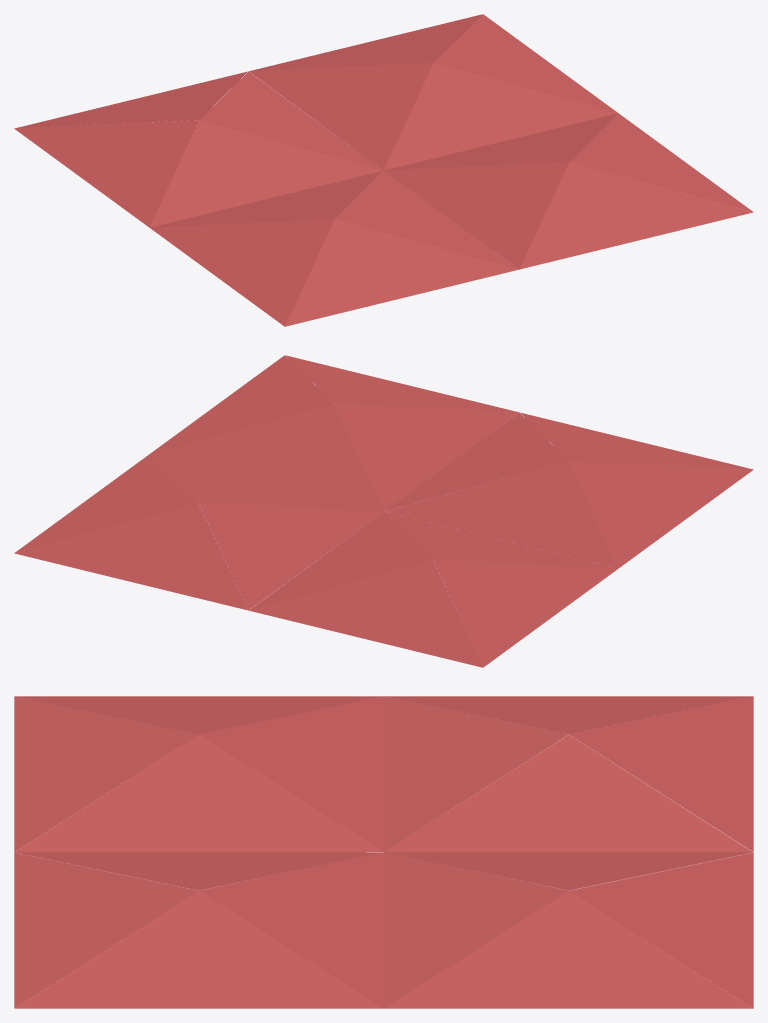
File: fl_uki_yuka.glb
The picture shows the model from 3 angles, top to bottom: view 1: azimuth 30°, elevation 25°; view 2: azimuth 150°, elevation 25°; view 3: azimuth 270°, elevation 25°; orthographic projection. The views are drawn at different scales.
Visible parts, largest first — view 1: fl_uki_yuka_col; view 2: fl_uki_yuka_col; view 3: fl_uki_yuka_col.
Part boxes in pixels (bbox=[...]): fl_uki_yuka_col: bbox=[14, 14, 753, 326]; fl_uki_yuka_col: bbox=[14, 355, 753, 667]; fl_uki_yuka_col: bbox=[14, 696, 753, 1008].
Size of the model in its own units: 2 by 0.1209 by 2.
